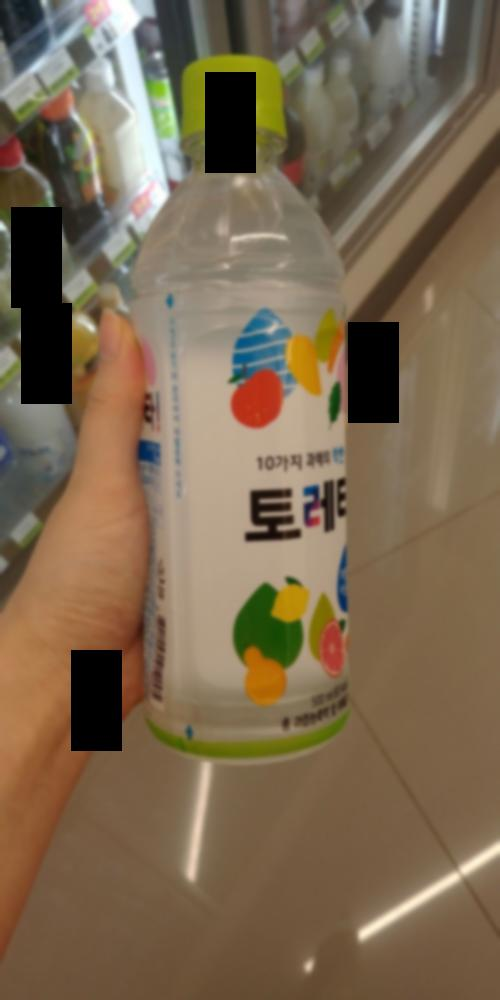toreta: (103, 43, 394, 770)
